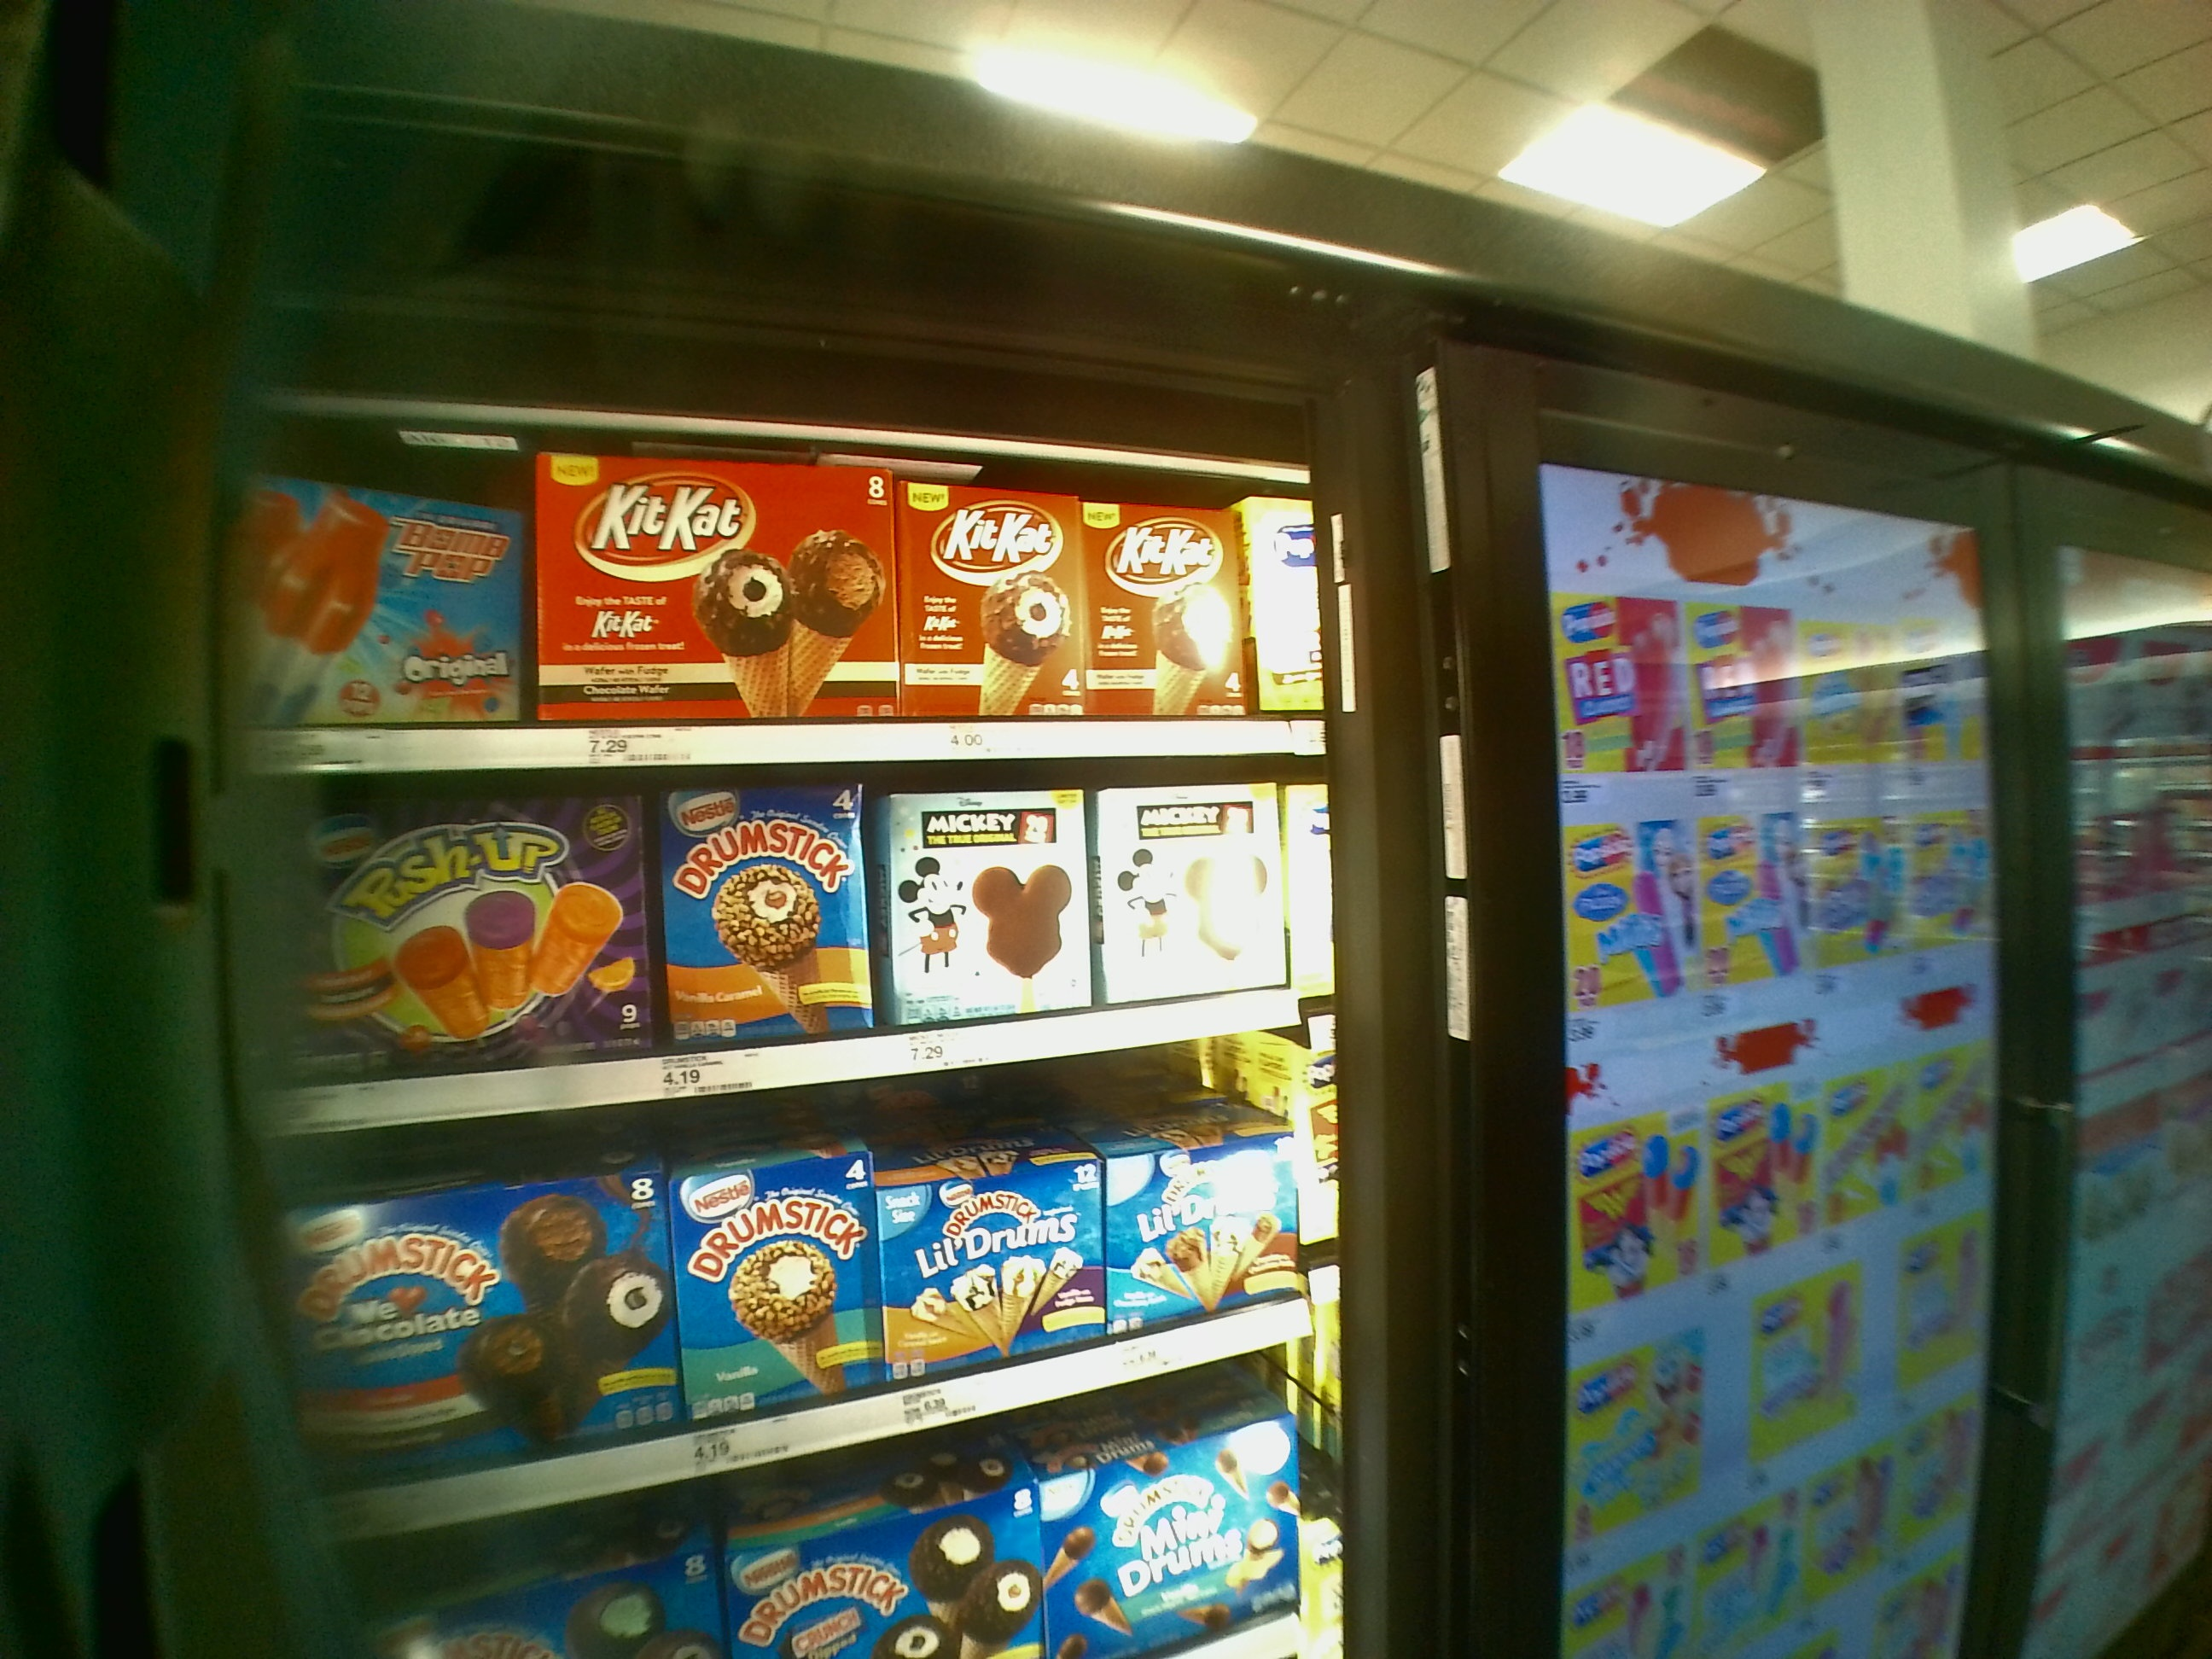shelf: (289, 1063, 1346, 1460), (226, 453, 1318, 770), (261, 788, 1327, 1089)
